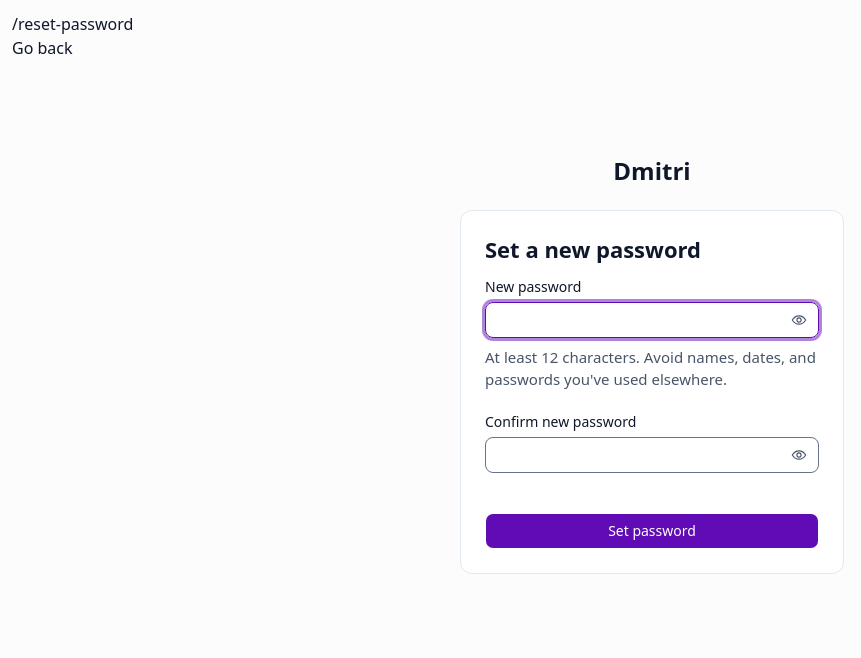
Test: ResetPassword › keeps a settled message while editing and clears it when the next submit begins
The width and height of the screenshot is (861, 658).
Type "a-long-enough-password" into the password field labelled "New password" at (652, 320), box 485,302 -> 819,338
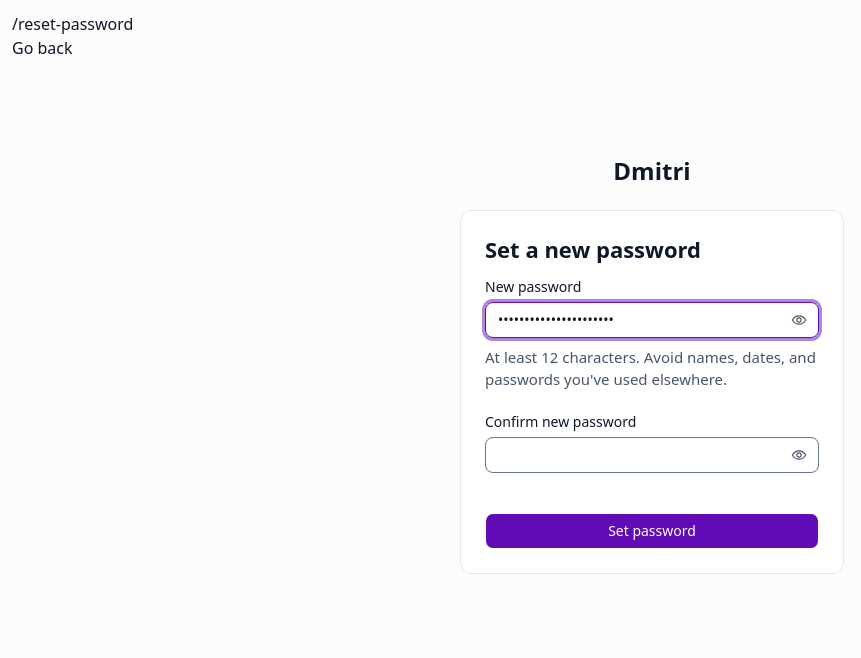
Type "a-long-enough-password" into the password field labelled "Confirm new password" at (652, 455), box 485,437 -> 819,473
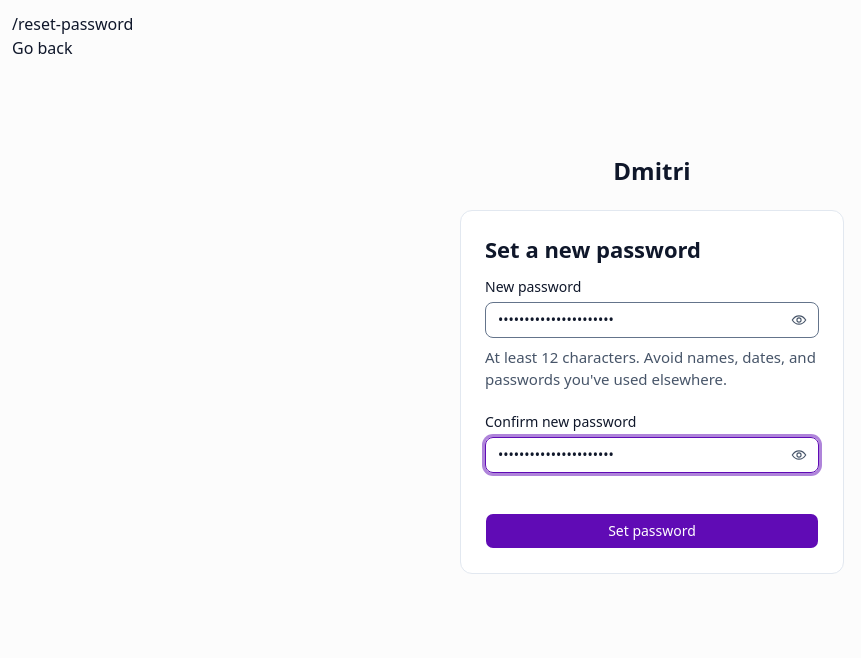
Click the button with test id "reset-submit" at (652, 531), box 485,513 -> 819,549
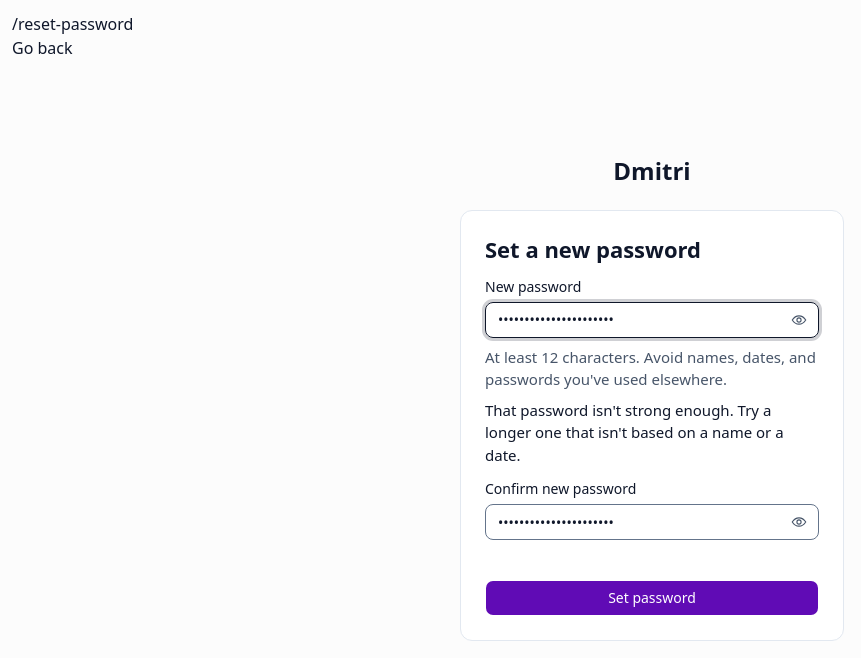
Check: the message with test id "reset-password-error" is not empty, box 485,399 -> 819,466
Type "x" into the password field with test id "reset-password" at (652, 320), box 485,302 -> 819,338
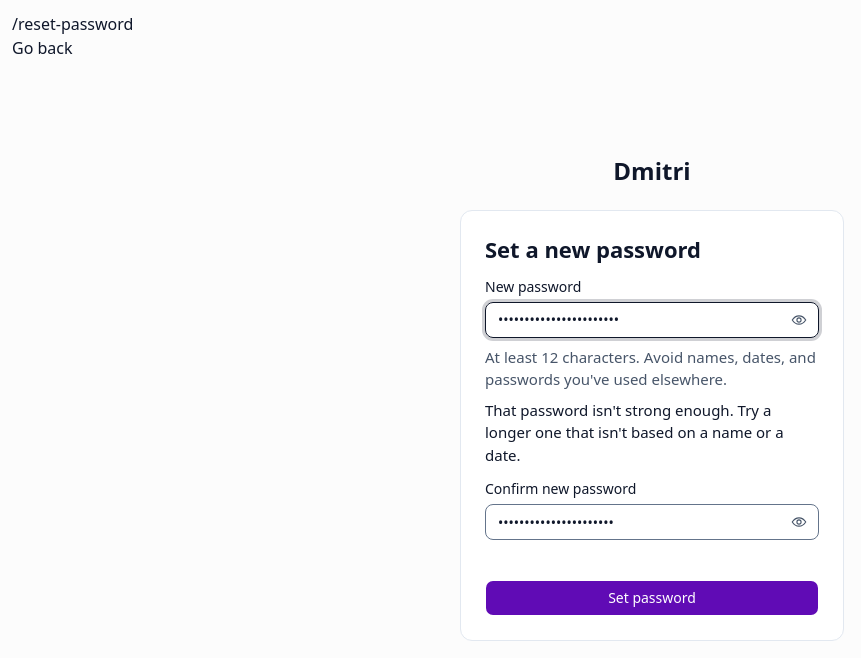
Check: the message with test id "reset-password-error" is not empty, box 485,399 -> 819,466
Type "x" into the password field with test id "reset-confirm" at (652, 522), box 485,504 -> 819,540
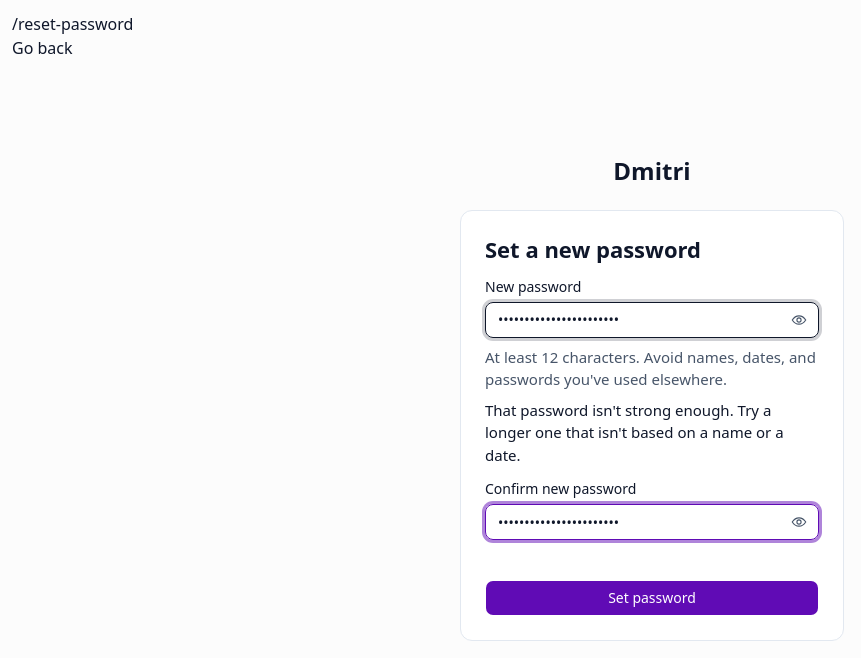
Click the button with test id "reset-submit" at (652, 598), box 485,580 -> 819,616
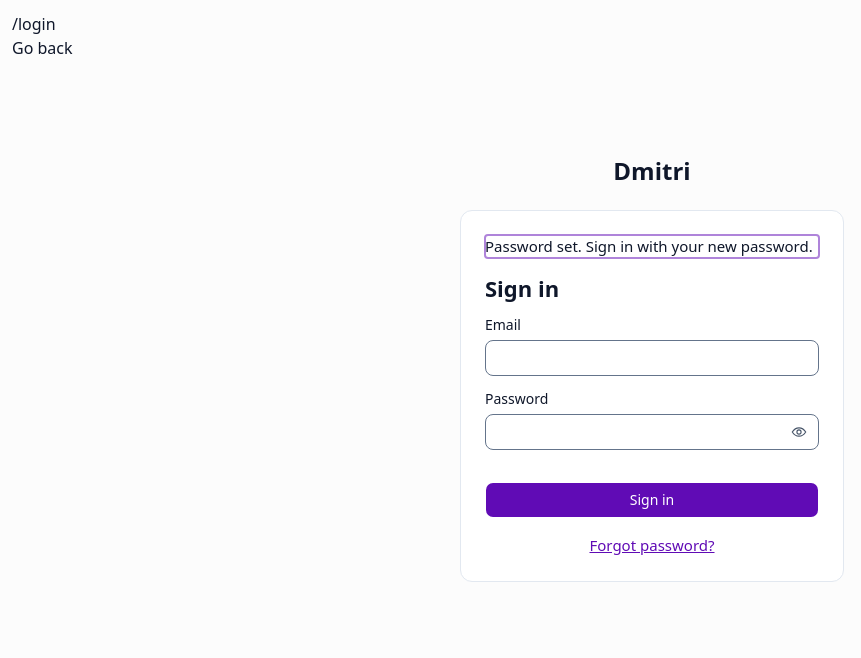
Check: the form with test id "login-form" is shown, box 485,274 -> 819,518
